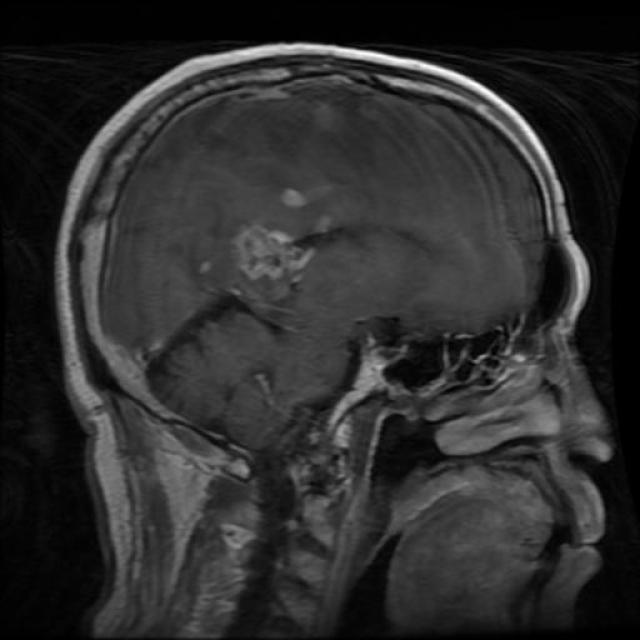glioma: (225, 221, 316, 285)
